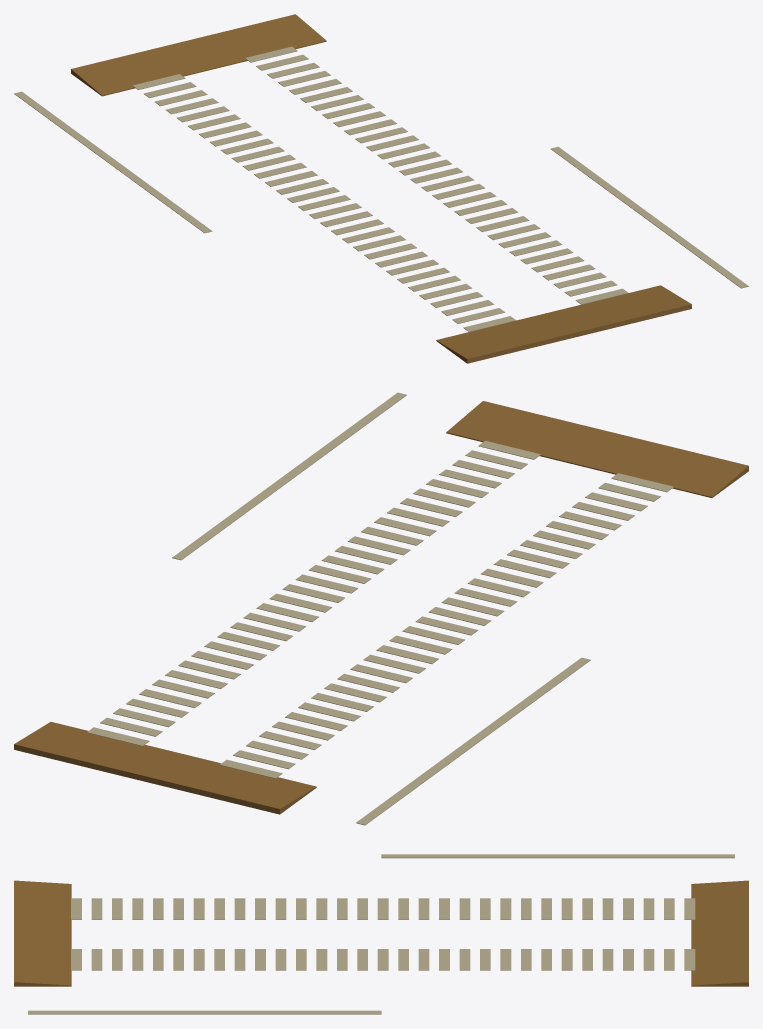
Rendered from SM_Bogota_CruceAccesible.fbx.
3 views of the same model, one above another, from view 1: azimuth 30°, elevation 25°; view 2: azimuth 150°, elevation 25°; view 3: azimuth 270°, elevation 25° (orthographic). The views are drawn at different scales.
Visible parts, largest first — view 1: SM_Bogota_CruceAccesible; view 2: SM_Bogota_CruceAccesible; view 3: SM_Bogota_CruceAccesible.
Boxes of the visible parts, <box> form: SM_Bogota_CruceAccesible: <box>14,14,748,363</box>; SM_Bogota_CruceAccesible: <box>14,392,748,825</box>; SM_Bogota_CruceAccesible: <box>14,854,748,1014</box>.
Size of the model in its own units: 15.75 by 30.56 by 0.2.
